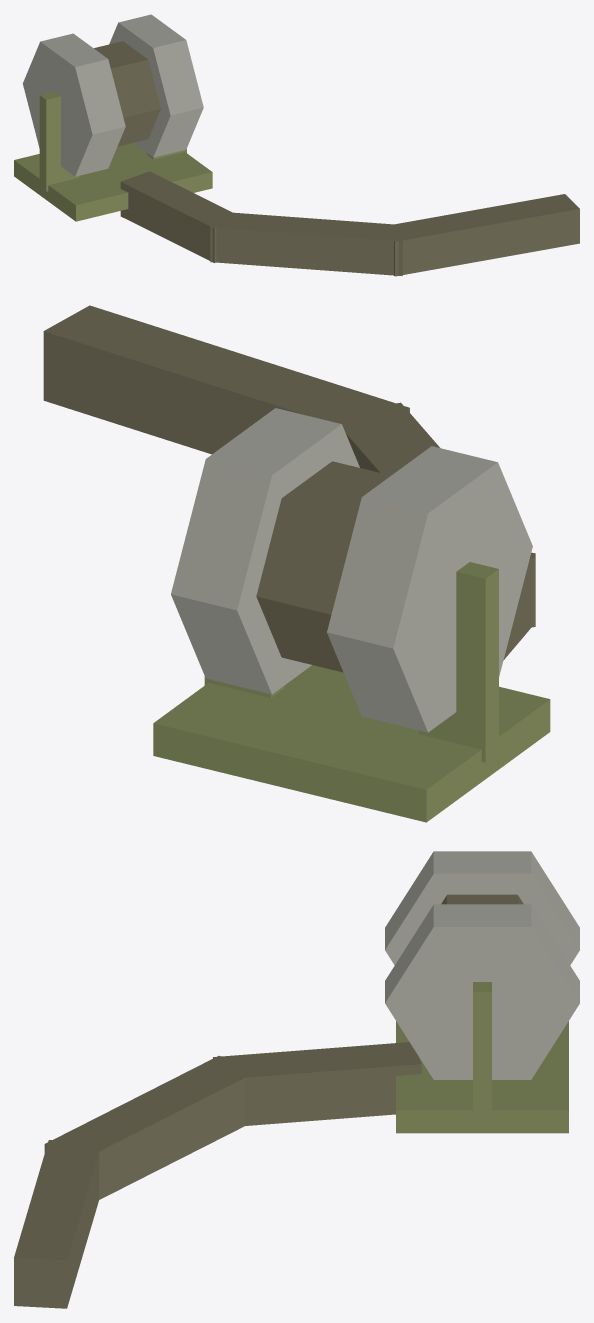
File: SM_Carrete_v1_Lleno_LOD1.fbx
The picture shows the model from 3 angles, top to bottom: view 1: azimuth 30°, elevation 25°; view 2: azimuth 150°, elevation 25°; view 3: azimuth 270°, elevation 25°; orthographic projection. The views are drawn at different scales.
Visible parts, largest first — view 1: SM_farp_betera_v11_LOD1; view 2: SM_farp_betera_v11_LOD1; view 3: SM_farp_betera_v11_LOD1.
Boxes of the visible parts, x1,y1,x2,y2 form: SM_farp_betera_v11_LOD1: (14,14,579,276); SM_farp_betera_v11_LOD1: (43,305,550,822); SM_farp_betera_v11_LOD1: (14,851,579,1308).
Bounding box in the file's own units: 3.83 × 1.5 × 3.6.
